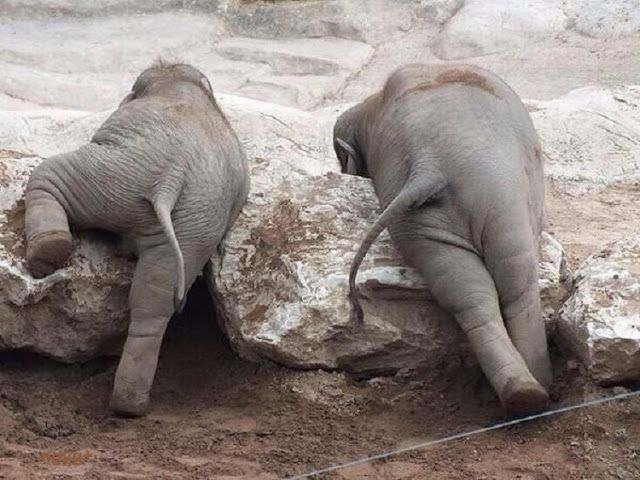elephant: (13, 48, 255, 421), (321, 59, 570, 416)
